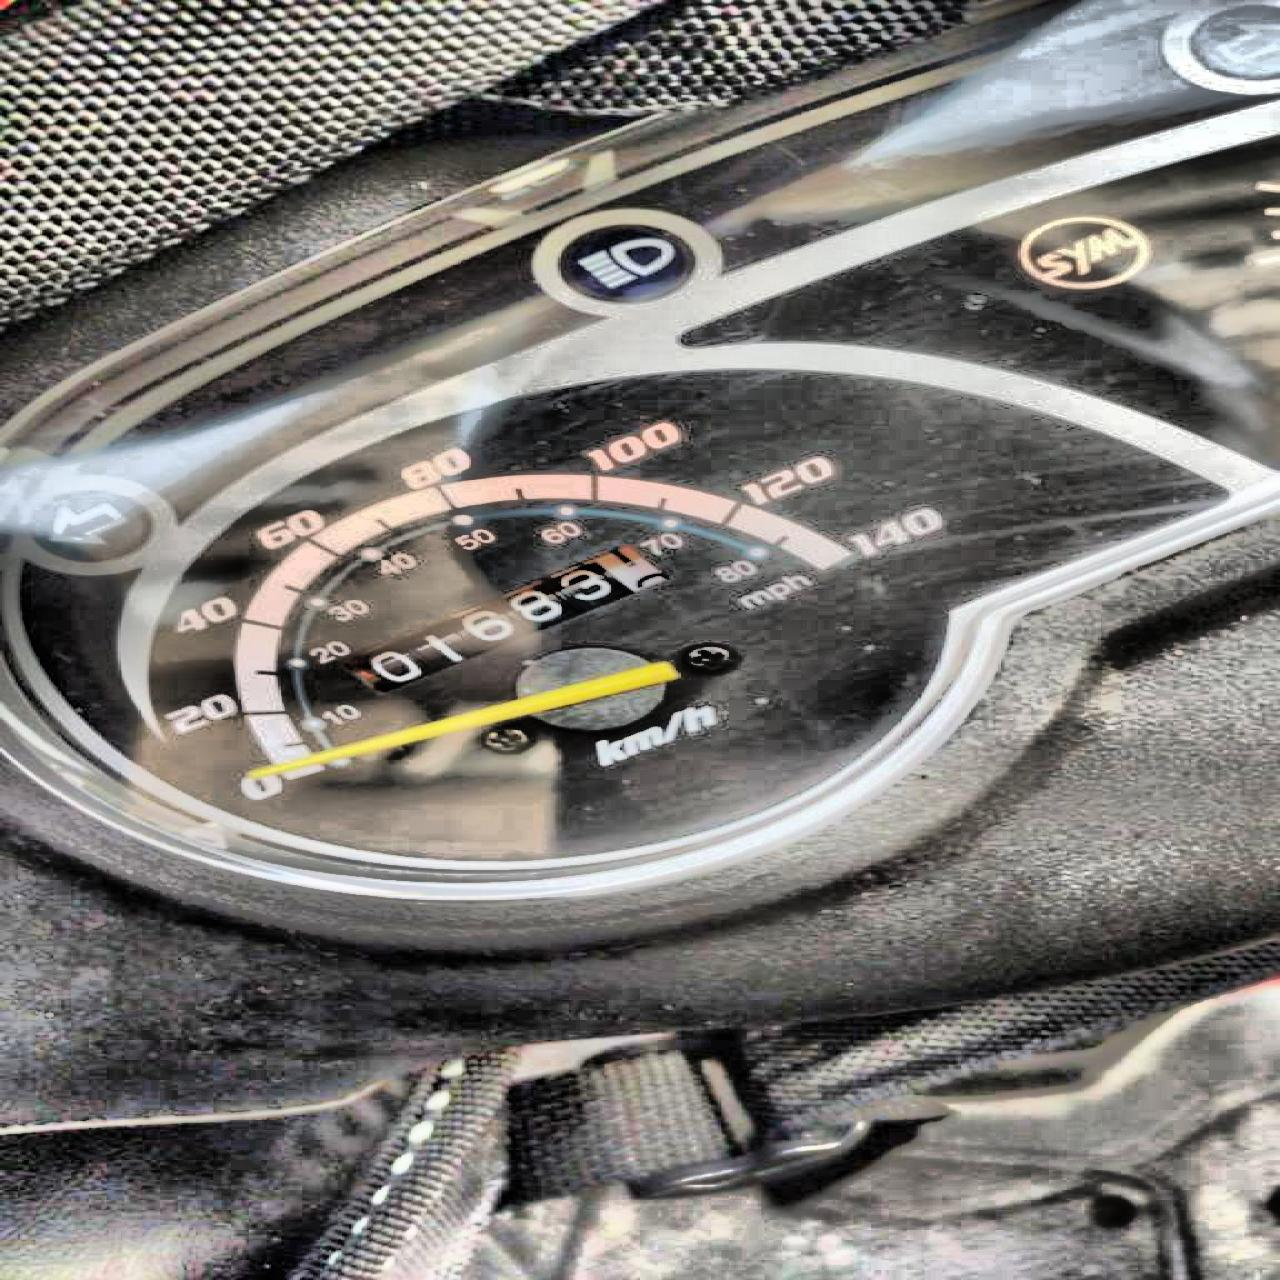0: (367, 648, 421, 681), (345, 595, 367, 615), (389, 551, 414, 567), (329, 638, 347, 656)
1: (420, 629, 462, 663), (606, 545, 638, 568)
3: (556, 567, 611, 601), (327, 604, 349, 620)
4: (374, 558, 395, 573)
5: (449, 539, 478, 550)
6: (458, 607, 511, 640)
7: (638, 539, 662, 557)
8: (504, 588, 560, 621)
odometer: (329, 538, 670, 697)
